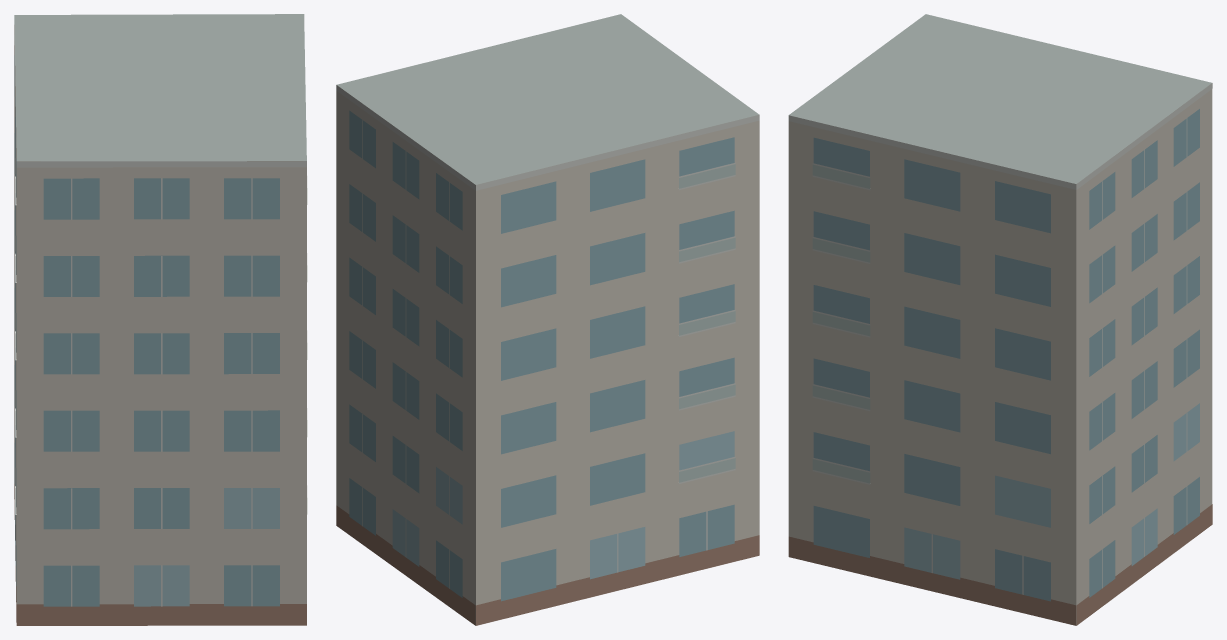
File: survey-upis-32740997.glb
3 views of the same model, side by side, from view 1: azimuth 30°, elevation 25°; view 2: azimuth 150°, elevation 25°; view 3: azimuth 270°, elevation 25° (orthographic). The views are drawn at different scales.
Visible parts, largest first — view 1: survey-upis-32740997.tmp; view 2: survey-upis-32740997.tmp; view 3: survey-upis-32740997.tmp.
Part boxes in pixels (left/top/right/bottom): survey-upis-32740997.tmp: left=14, top=14, right=307, bottom=625; survey-upis-32740997.tmp: left=336, top=14, right=759, bottom=625; survey-upis-32740997.tmp: left=788, top=14, right=1212, bottom=625.
Size of the model in its own units: 15.13 by 18.3 by 15.92.
